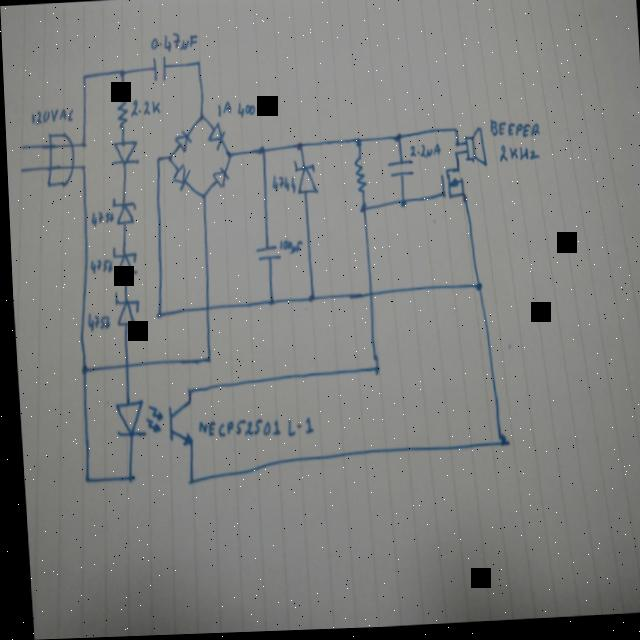capacitor: (251, 243, 278, 269), (147, 57, 172, 85), (384, 159, 413, 183)
crossover: (360, 290, 375, 303), (119, 361, 129, 372), (199, 304, 210, 314)
diode: (110, 290, 139, 329), (289, 159, 318, 197), (109, 245, 137, 278), (107, 139, 138, 168), (203, 122, 226, 153), (110, 197, 134, 226), (168, 164, 190, 193), (172, 130, 192, 155), (209, 167, 229, 191)
junction: (490, 434, 507, 451), (301, 291, 315, 308), (354, 204, 370, 218), (469, 281, 483, 297), (393, 198, 406, 213), (391, 132, 402, 147), (293, 140, 303, 156), (254, 145, 266, 158), (351, 137, 362, 151), (76, 363, 86, 378), (122, 471, 132, 485), (115, 68, 126, 80), (368, 365, 378, 378), (263, 297, 274, 308), (150, 308, 160, 320), (222, 150, 232, 162), (78, 472, 87, 485), (198, 190, 206, 202), (194, 58, 203, 68), (77, 161, 86, 171), (197, 113, 205, 124), (201, 355, 209, 365), (182, 476, 190, 486), (77, 139, 85, 149), (181, 387, 189, 396), (79, 73, 87, 81), (450, 128, 457, 137), (165, 153, 171, 163), (154, 156, 160, 166), (452, 153, 457, 159), (453, 143, 457, 150)
resistor: (350, 156, 367, 196), (113, 89, 128, 132)
terminal: (15, 166, 24, 174), (16, 144, 24, 150)
text: (192, 415, 311, 444), (487, 119, 540, 144), (147, 31, 198, 56), (27, 106, 74, 128), (496, 145, 539, 169), (127, 95, 161, 119), (234, 99, 267, 122), (405, 144, 440, 162), (269, 174, 294, 198), (82, 311, 109, 332), (275, 239, 301, 257), (86, 210, 112, 227), (86, 258, 110, 276), (213, 100, 232, 119)
transistor: (436, 169, 470, 207)
